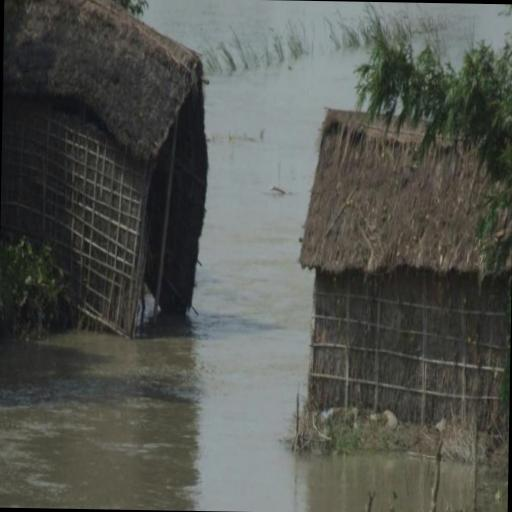flood: (0, 0, 433, 512), (376, 2, 512, 59), (439, 464, 474, 512), (478, 471, 508, 512)
house: (314, 104, 512, 419), (64, 30, 212, 337)
